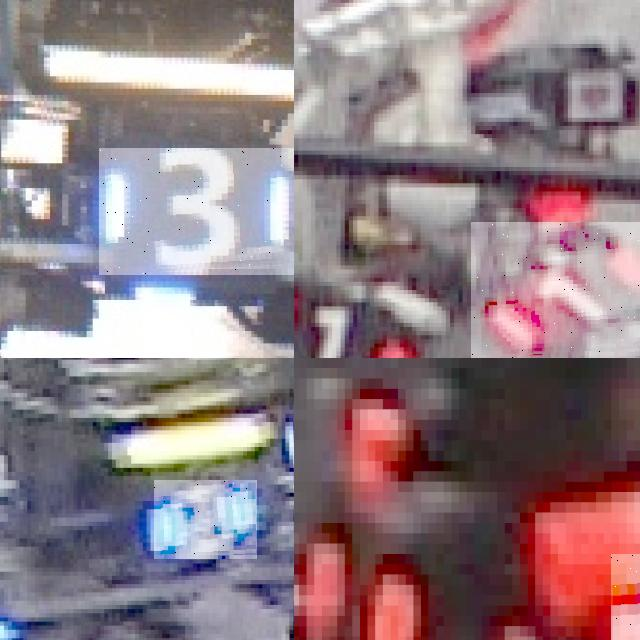B2: (154, 480, 258, 559)
B3: (99, 148, 294, 275)
R1: (470, 222, 640, 357), (294, 273, 422, 358)
